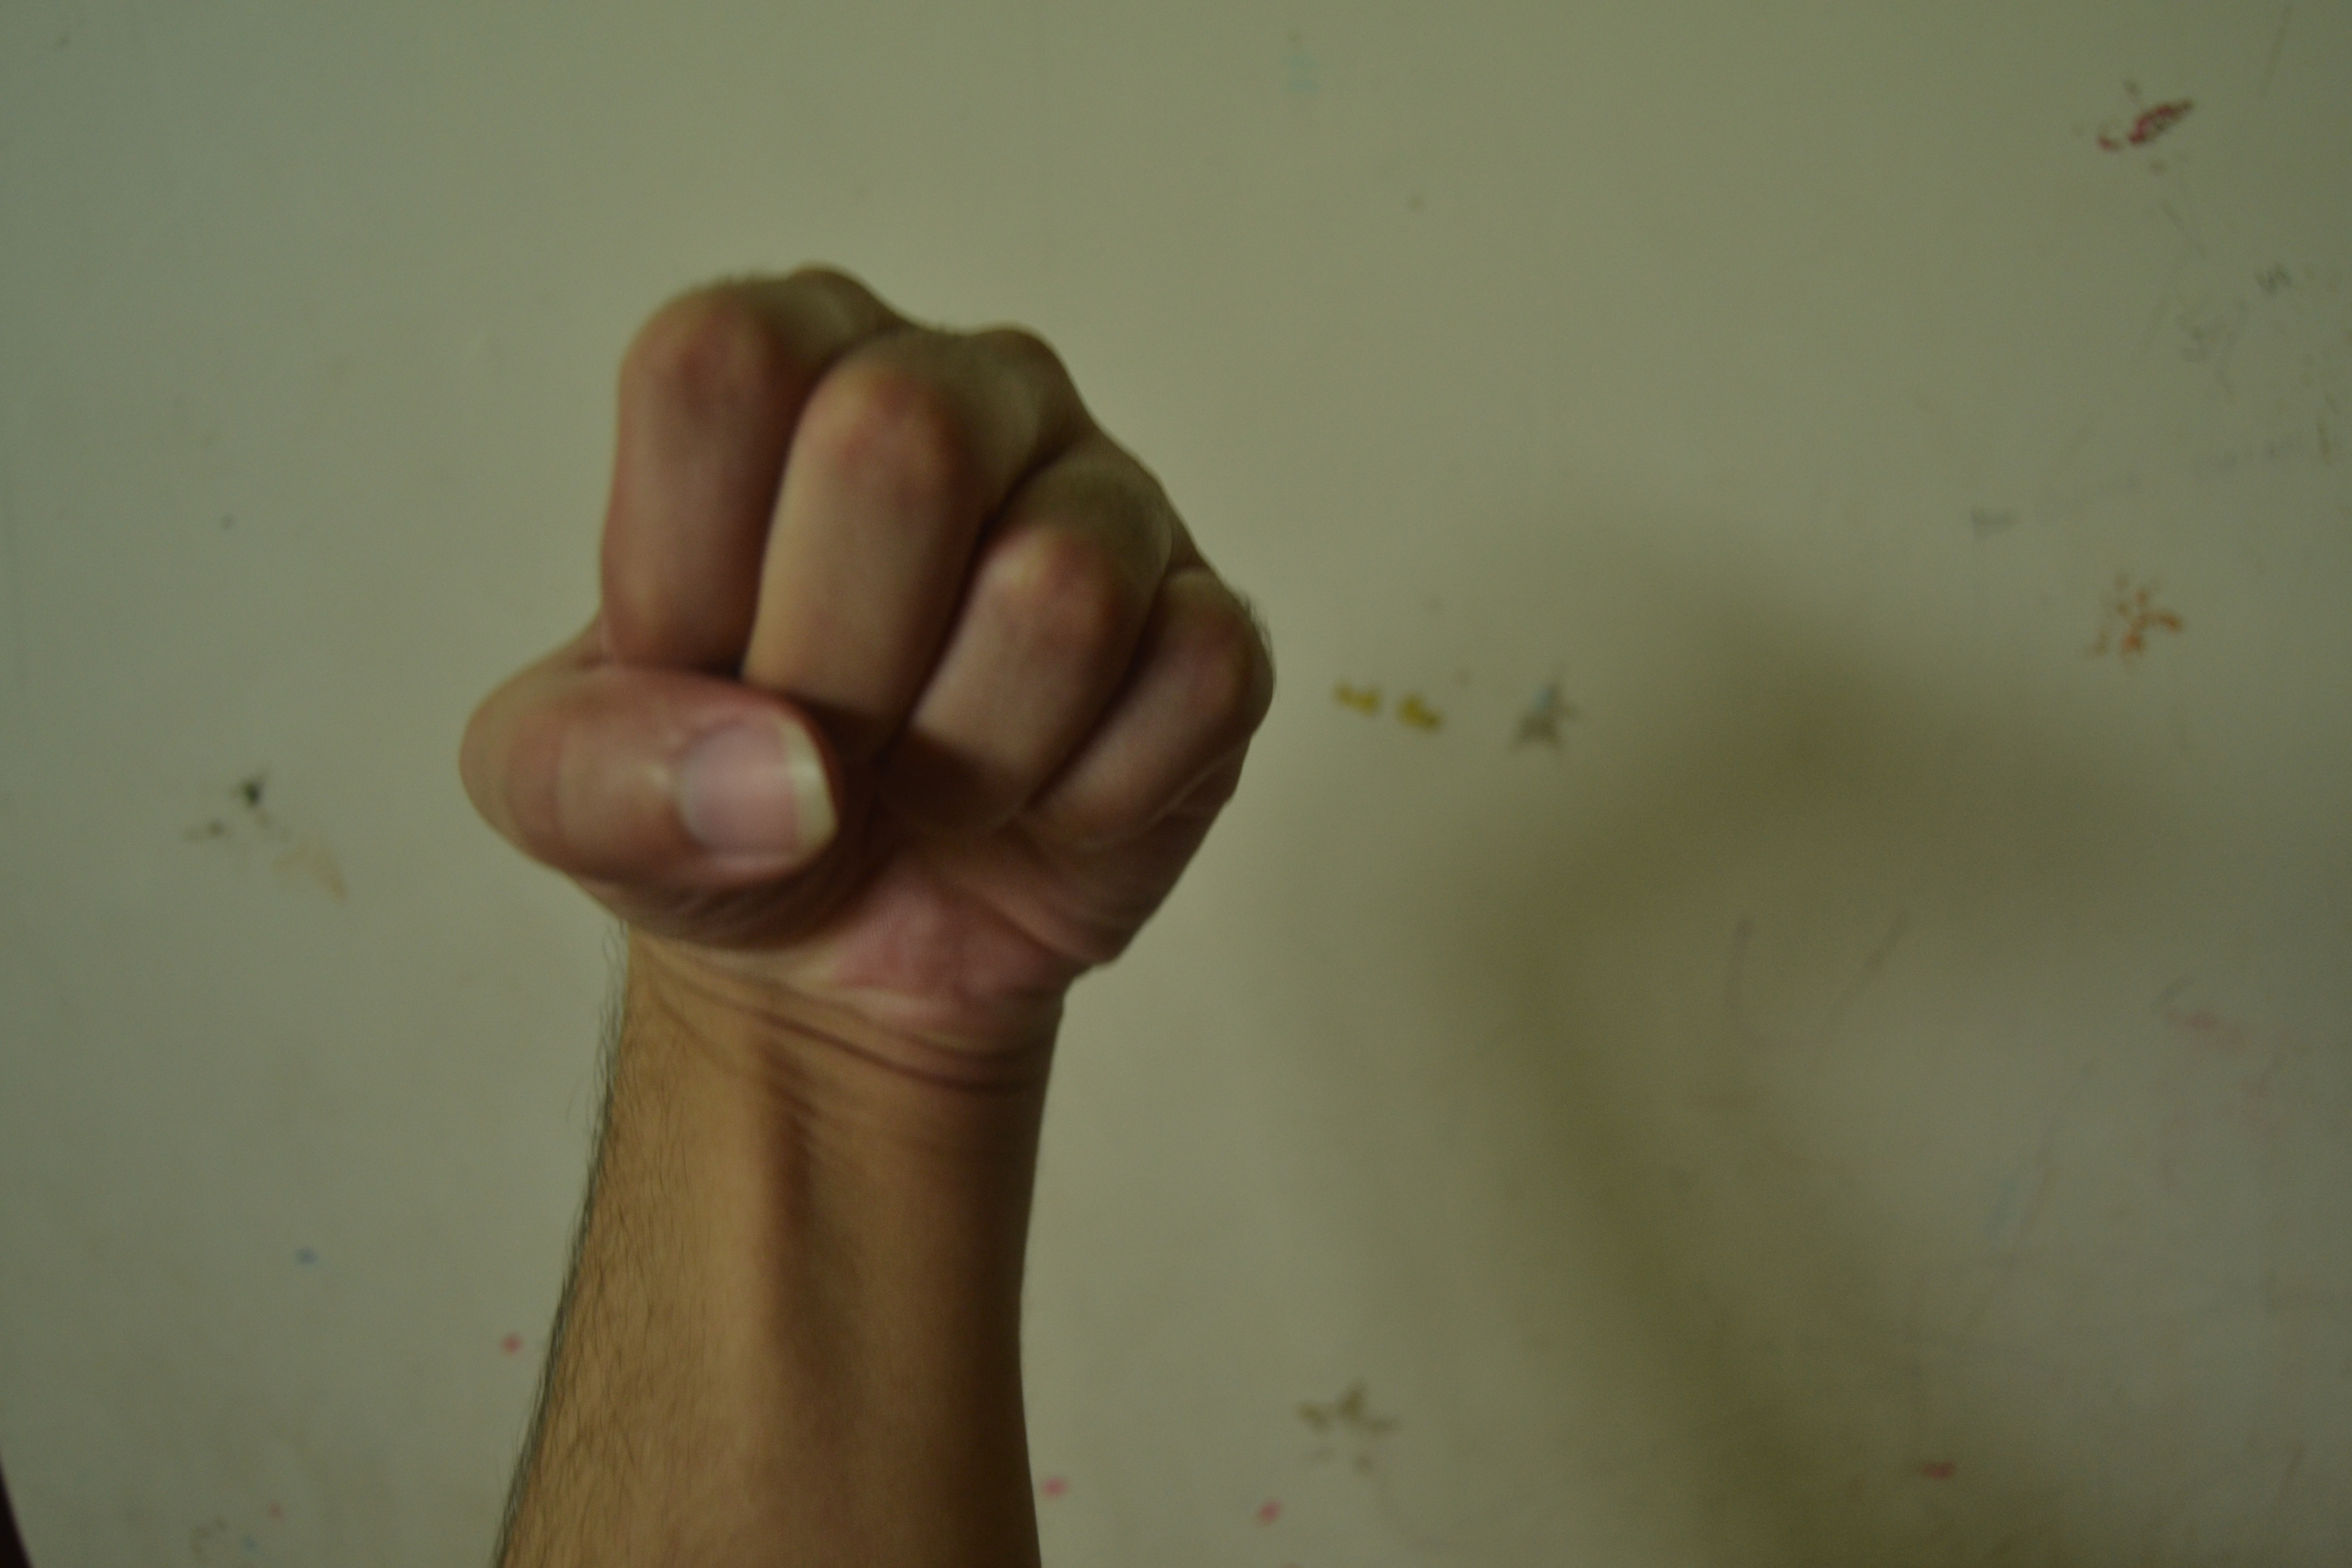click: (399, 222, 1577, 1211)
